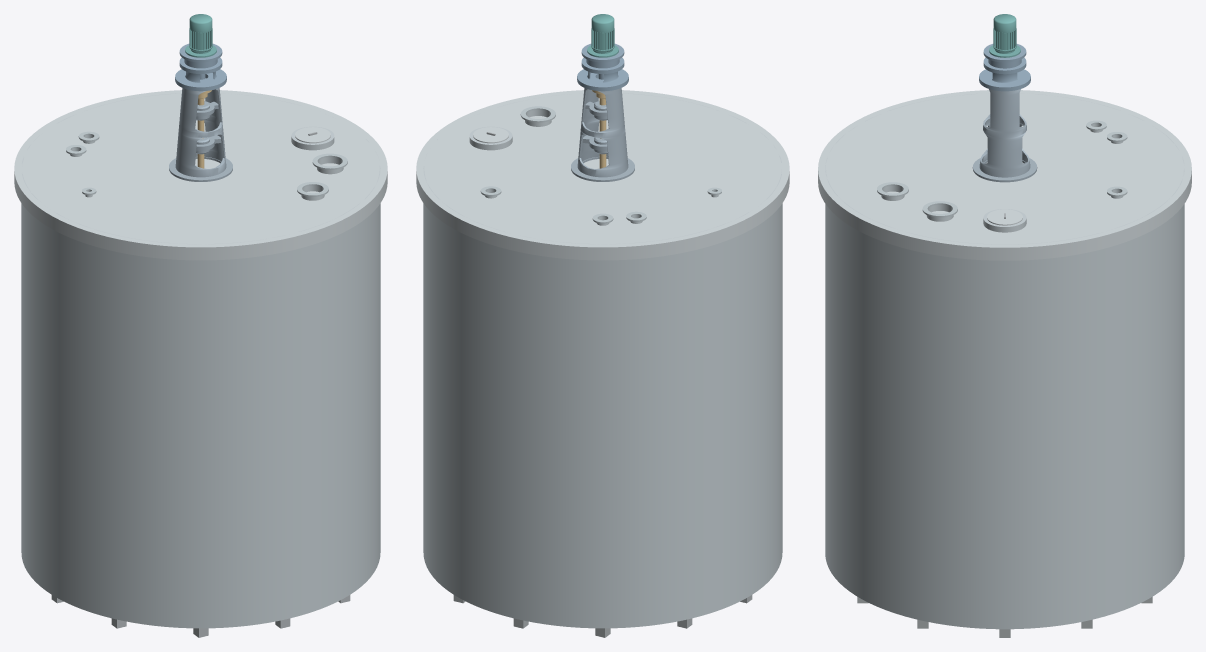
3 renders of one model, left to right at view 1: azimuth 30°, elevation 25°; view 2: azimuth 150°, elevation 25°; view 3: azimuth 270°, elevation 25°, orthographic.
Visible parts, largest first — view 1: 本体_筒壳, 槽盖_盖板, 支架_06_Tapered_window_frame_with_bored_seats, 驱动_01_Motor, 驱动_02_Base_flange_top, 支架_06_Frame_foot; view 2: 本体_筒壳, 槽盖_盖板, 支架_06_Tapered_window_frame_with_bored_seats, 驱动_01_Motor, 驱动_02_Base_flange_top, 支架_06_Frame_foot; view 3: 本体_筒壳, 槽盖_盖板, 支架_06_Tapered_window_frame_with_bored_seats, 驱动_01_Motor, 驱动_02_Base_flange_top, 支架_06_Frame_foot.
Boxes of the visible parts, x1,y1,x2,y2 form: 本体_筒壳: [21, 93, 380, 628]; 槽盖_盖板: [14, 90, 387, 260]; 支架_06_Tapered_window_frame_with_bored_seats: [175, 78, 226, 177]; 驱动_01_Motor: [185, 14, 216, 57]; 驱动_02_Base_flange_top: [175, 69, 226, 89]; 支架_06_Frame_foot: [169, 156, 232, 181]; 本体_筒壳: [423, 93, 782, 628]; 槽盖_盖板: [416, 90, 789, 260]; 支架_06_Tapered_window_frame_with_bored_seats: [577, 78, 628, 177]; 驱动_01_Motor: [587, 14, 618, 57]; 驱动_02_Base_flange_top: [577, 69, 628, 89]; 支架_06_Frame_foot: [571, 156, 634, 181]; 本体_筒壳: [825, 93, 1184, 629]; 槽盖_盖板: [818, 90, 1191, 260]; 支架_06_Tapered_window_frame_with_bored_seats: [979, 89, 1030, 177]; 驱动_01_Motor: [989, 14, 1020, 57]; 驱动_02_Base_flange_top: [979, 69, 1030, 89]; 支架_06_Frame_foot: [972, 158, 1037, 182].
Size of the model in its own units: 5.2 by 8.41 by 5.2.
